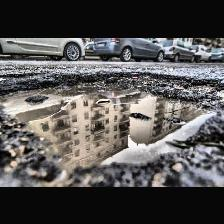pothole: (0, 68, 224, 176)
